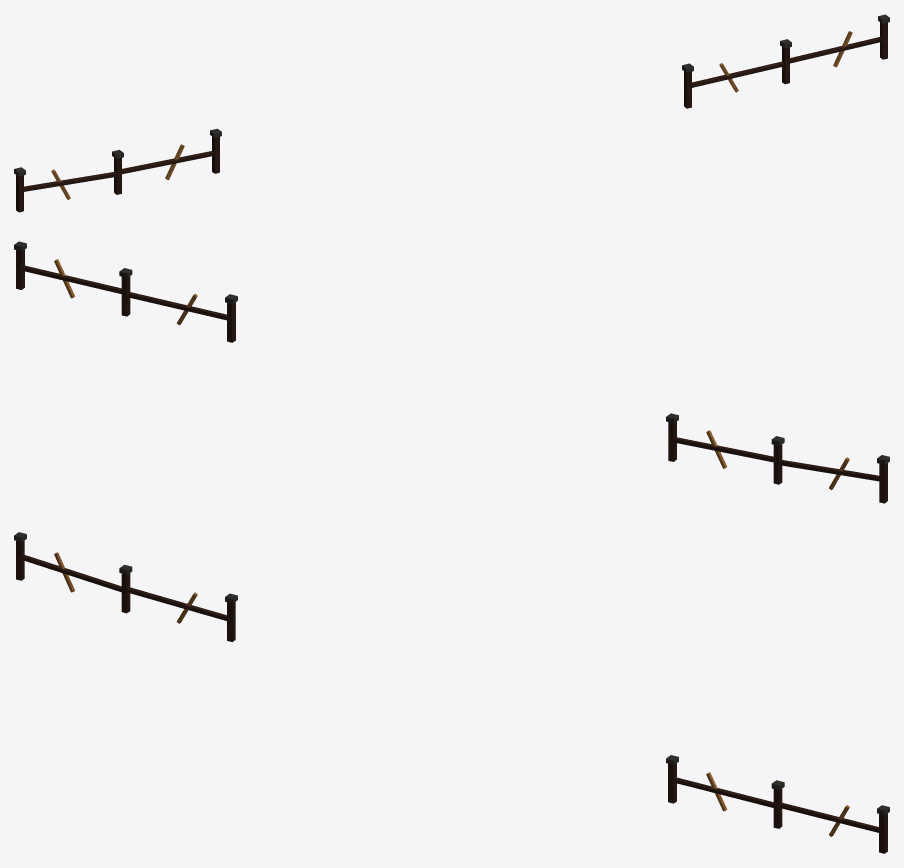
The model's file is siege_line.glb.
3 renders of one model, top to bottom at view 1: azimuth 30°, elevation 25°; view 2: azimuth 150°, elevation 25°; view 3: azimuth 330°, elevation 25°, orthographic. The views are drawn at different scales.
Parts seen in each view (by area): view 1: siege_line; view 2: siege_line; view 3: siege_line.
Part boxes in pixels (left/top/right/bottom): siege_line: left=14, top=14, right=889, bottom=212; siege_line: left=14, top=241, right=889, bottom=503; siege_line: left=14, top=532, right=889, bottom=853.
Bounding box in the file's own units: 34.32 × 2.74 × 2.52.
Materials: 1 (1 with a texture image).
